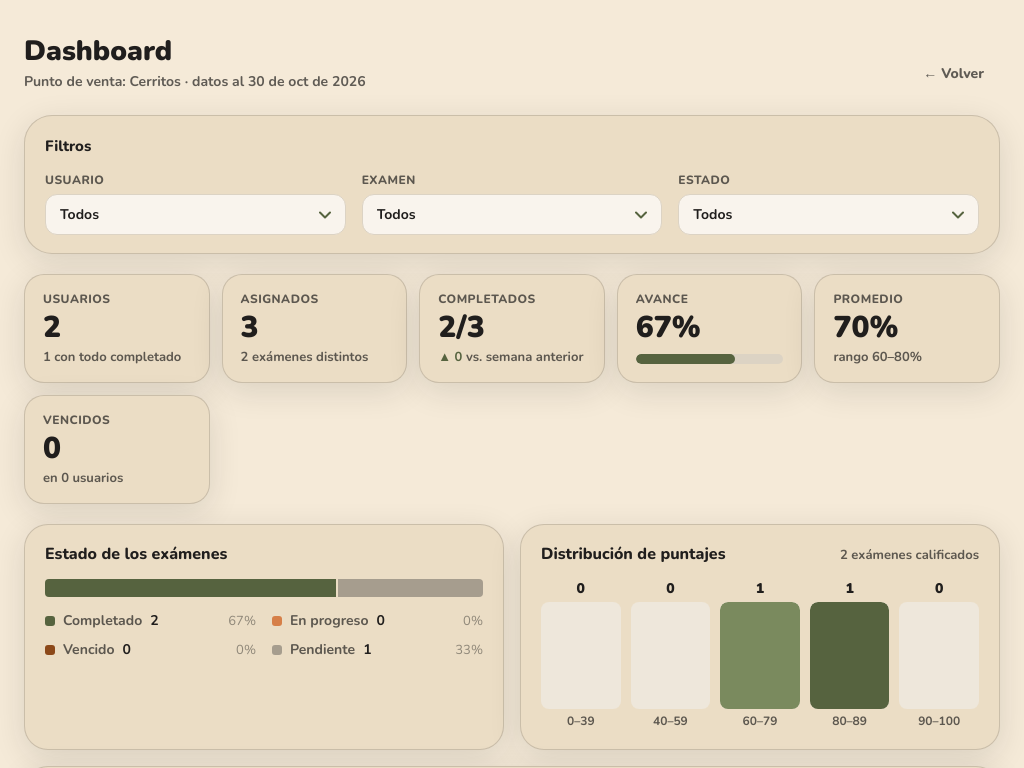
Test: AdminDashboardView › filters and charts › filters by usuario without refetching
Select "Beto" in the dropdown with test id "filter-user": (195, 214) [45,194,346,235]
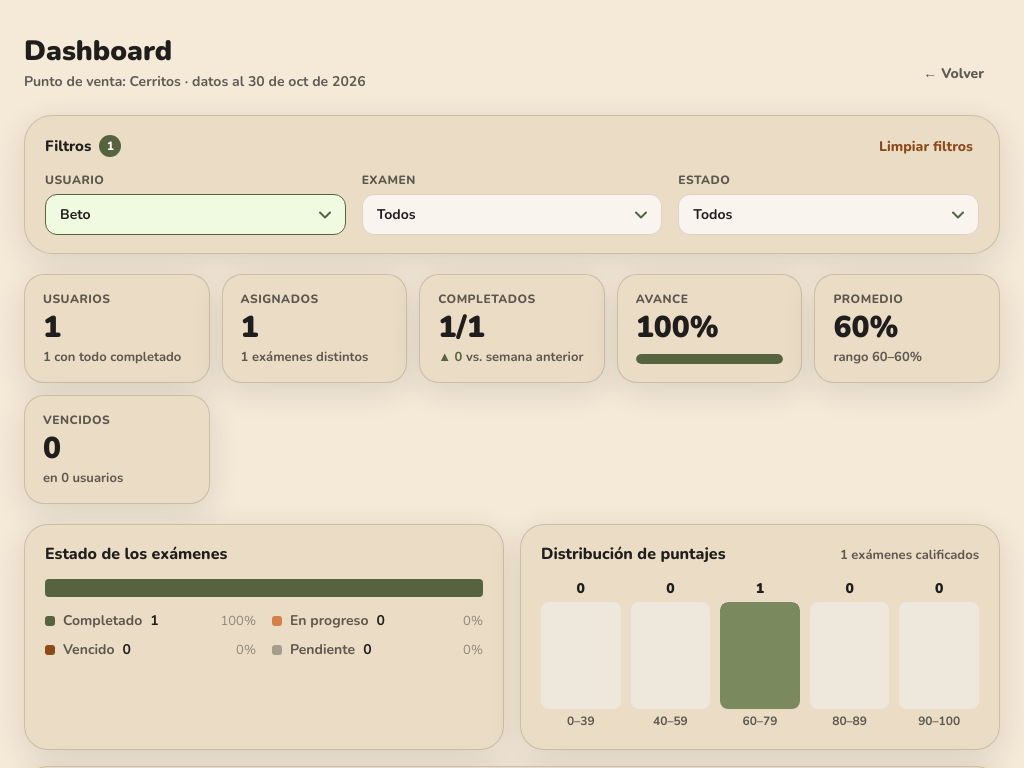
Expected: the text with test id "total-users" reads "1", [43,307,61,348]
Expected: the text with test id "overall" reads "1/1", [438,307,485,348]
